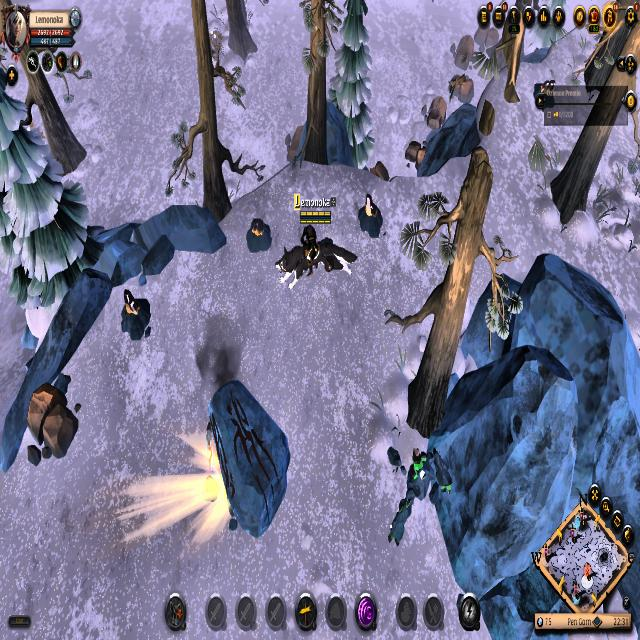ore tier 2: (120, 287, 154, 340), (357, 193, 385, 242), (245, 217, 272, 255)
